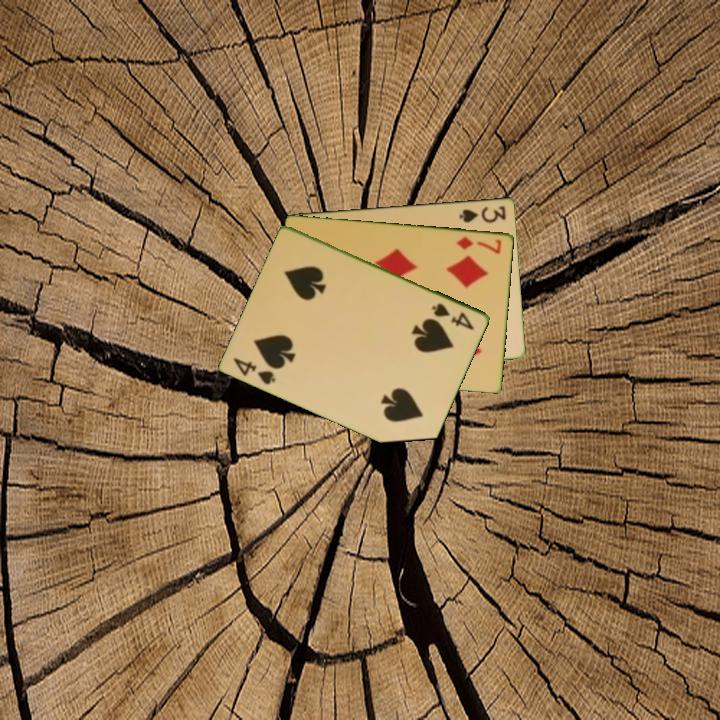3s: (456, 202, 509, 225)
4s: (429, 299, 477, 333), (230, 354, 279, 387)
7d: (453, 233, 504, 256)
